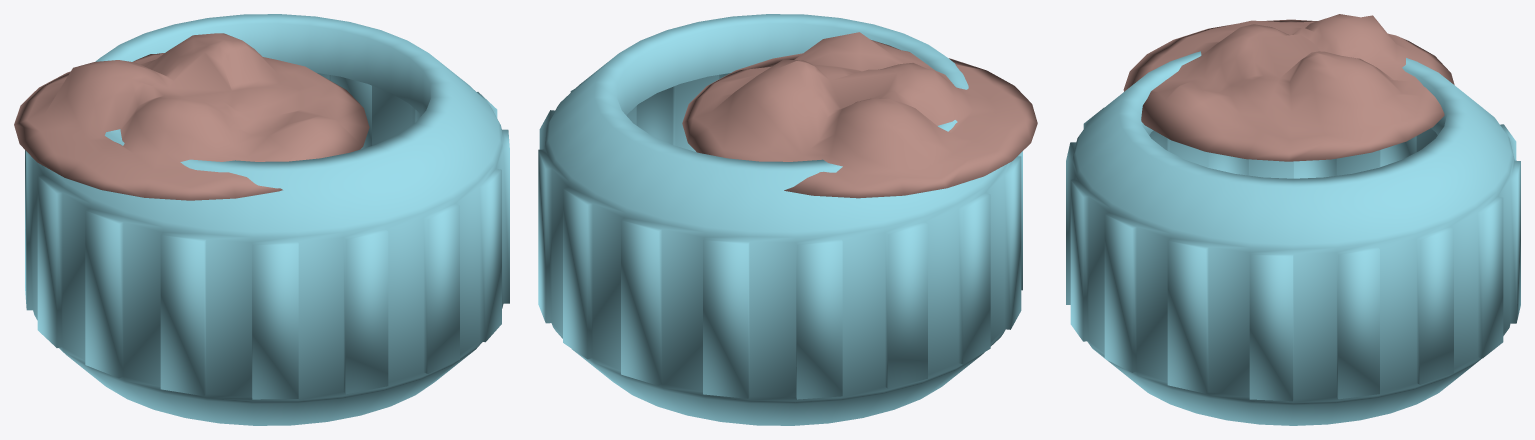
File: pot_blue.glb
The picture shows the model from 3 angles, left to right: view 1: azimuth 30°, elevation 25°; view 2: azimuth 150°, elevation 25°; view 3: azimuth 270°, elevation 25°; orthographic projection. The views are drawn at different scales.
Parts seen in each view (by area): view 1: blue_圆环.003, blue_泥土.004; view 2: blue_圆环.003, blue_泥土.004; view 3: blue_圆环.003, blue_泥土.004.
Boxes of the visible parts, <box> form: blue_圆环.003: <box>25,14,509,425</box>; blue_泥土.004: <box>14,33,369,200</box>; blue_圆环.003: <box>538,14,1022,425</box>; blue_泥土.004: <box>682,32,1037,198</box>; blue_圆环.003: <box>1066,51,1520,425</box>; blue_泥土.004: <box>1123,14,1454,161</box>.
Size of the model in its own units: 0.7607 by 0.4996 by 0.7242.
